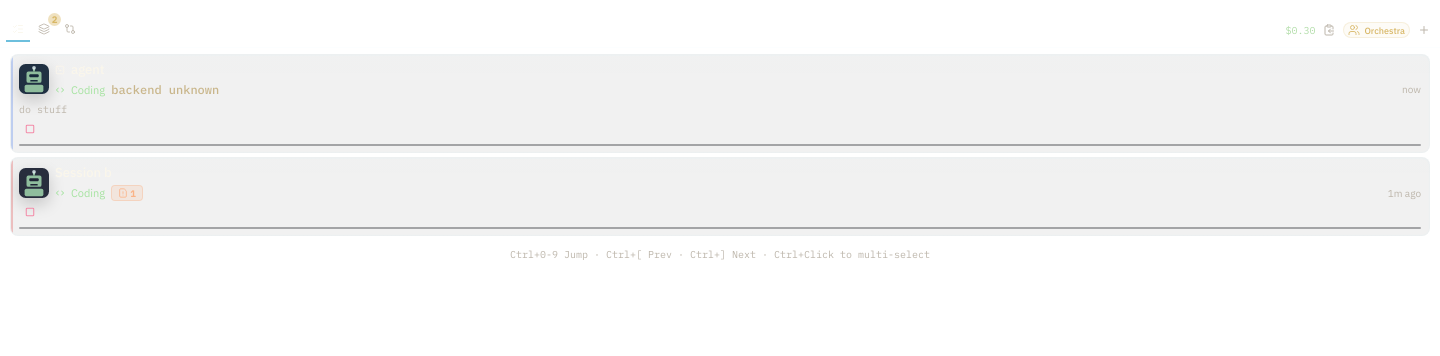
Test: AgentInspector parallel view — live PTY tiles › preserves the summary bar, conflict chip, and --session-accent on the tile
Click the button named "Parallel sessions" at (44, 30), box [32, 18, 56, 42]
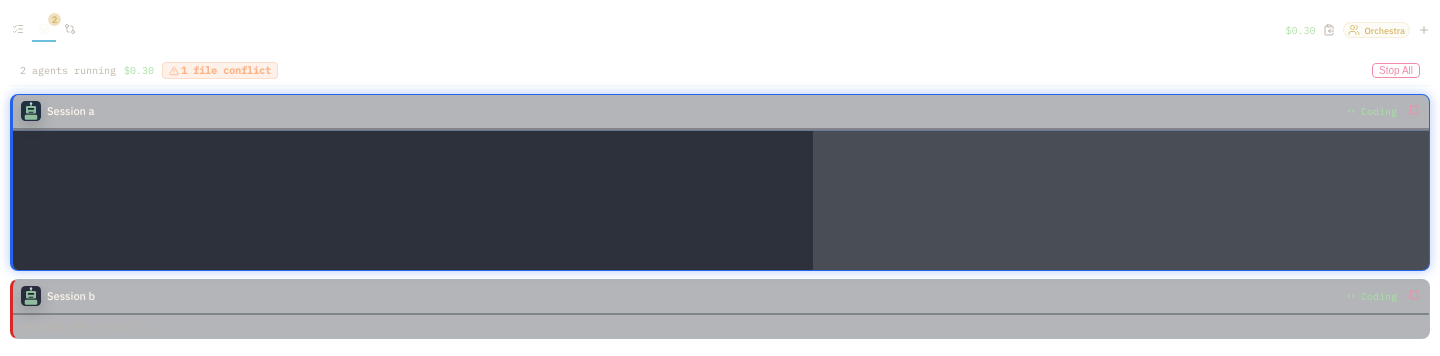
Check: the text "2 agents running" is shown, box [20, 64, 116, 77]
Check: the text "1 file conflict" is shown, box [162, 62, 278, 79]
